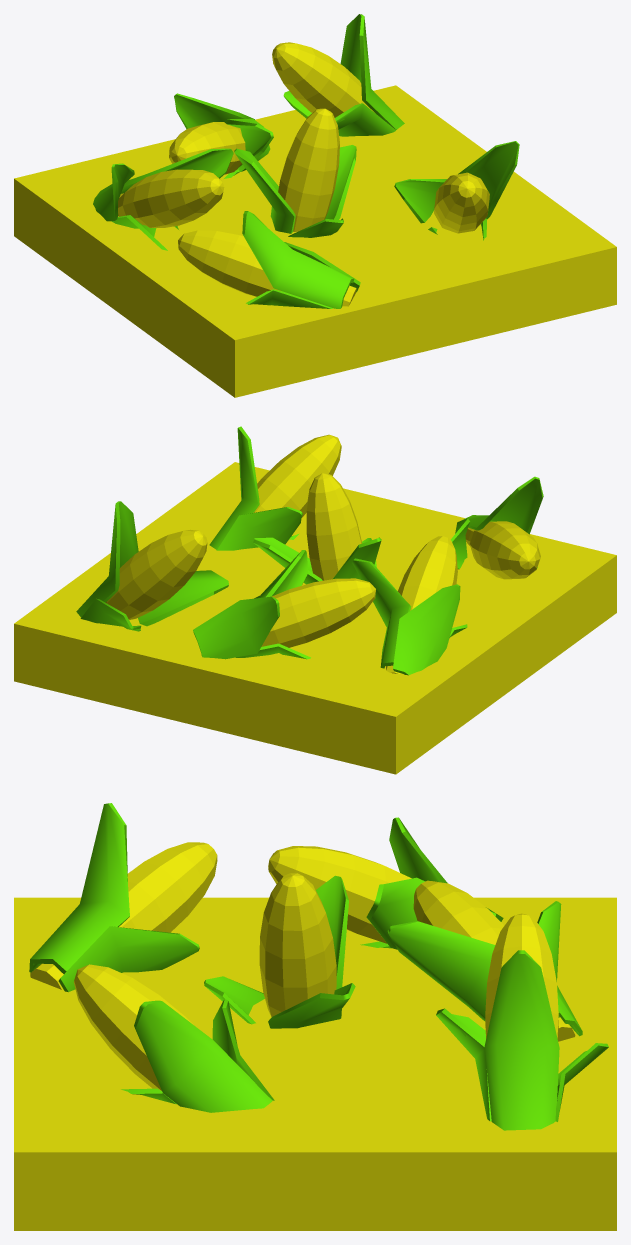
The model's file is Corn_Crate_Fill_model.fbx.
3 renders of one model, top to bottom at view 1: azimuth 30°, elevation 25°; view 2: azimuth 150°, elevation 25°; view 3: azimuth 270°, elevation 25°, orthographic. The views are drawn at different scales.
Parts seen in each view (by area): view 1: Corn_create_fill_model; view 2: Corn_create_fill_model; view 3: Corn_create_fill_model.
Boxes of the visible parts, x1,y1,x2,y2 form: Corn_create_fill_model: (14,14,616,397); Corn_create_fill_model: (14,426,616,774); Corn_create_fill_model: (14,803,616,1230).
Bounding box in the file's own units: 0.9073 × 0.3909 × 0.9087.
